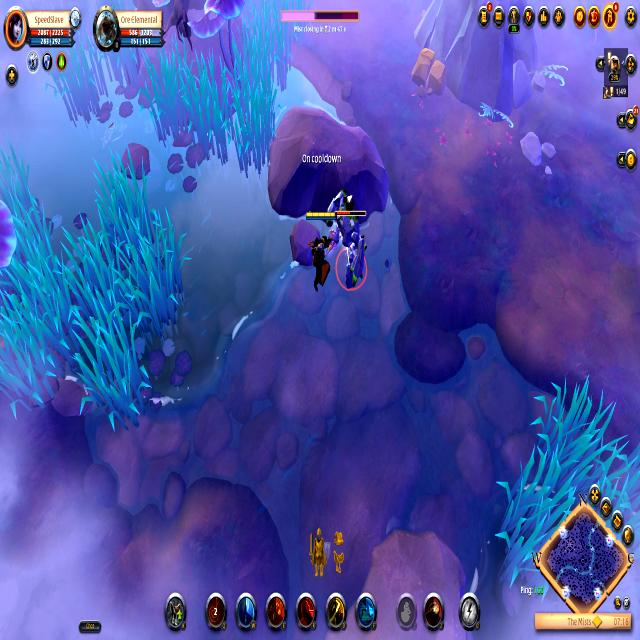ore: (322, 186, 373, 297)
red: (300, 209, 340, 295)
tree: (408, 43, 448, 103)
